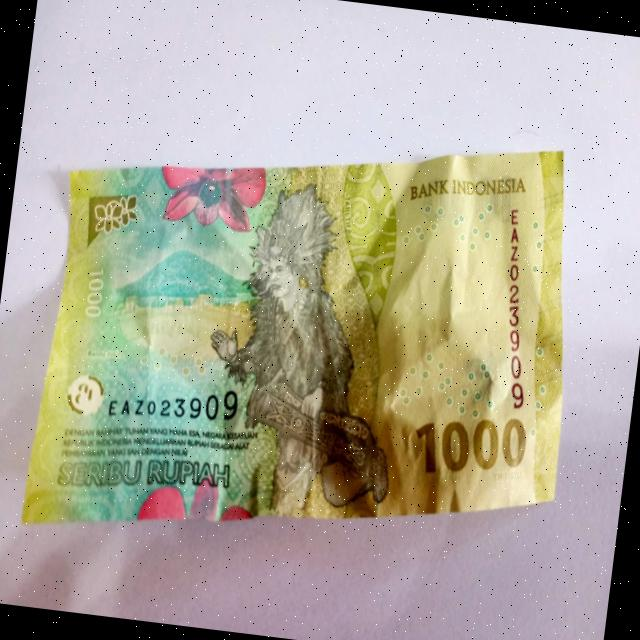1K: (0, 80, 612, 600)
